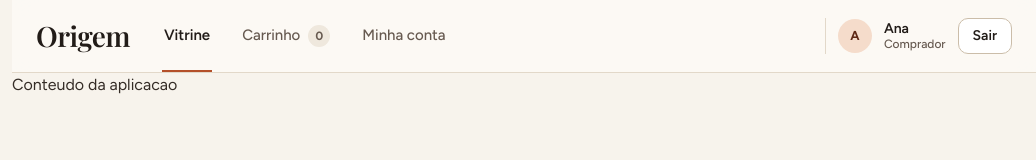
Scenario: GateAcesso › clicar em sair pede confirmacao antes de deslogar
The width and height of the screenshot is (1036, 160).
What coordinates should you click on to do the following:
click the button "Sair"
I would click on:
 (985, 36)
Its box is [958,18,1012,54].
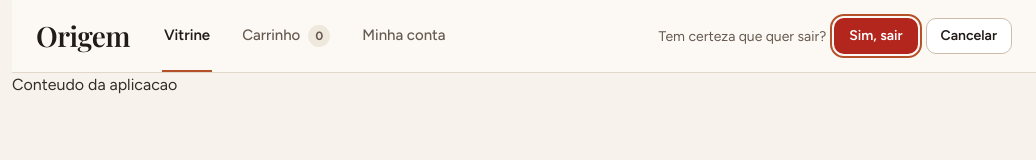
Expected: the text "Conteudo da aplicacao" is shown, [12,75,177,94]
Now the text "Tem certeza que quer sair?" is shown, box [659,26,826,46]
